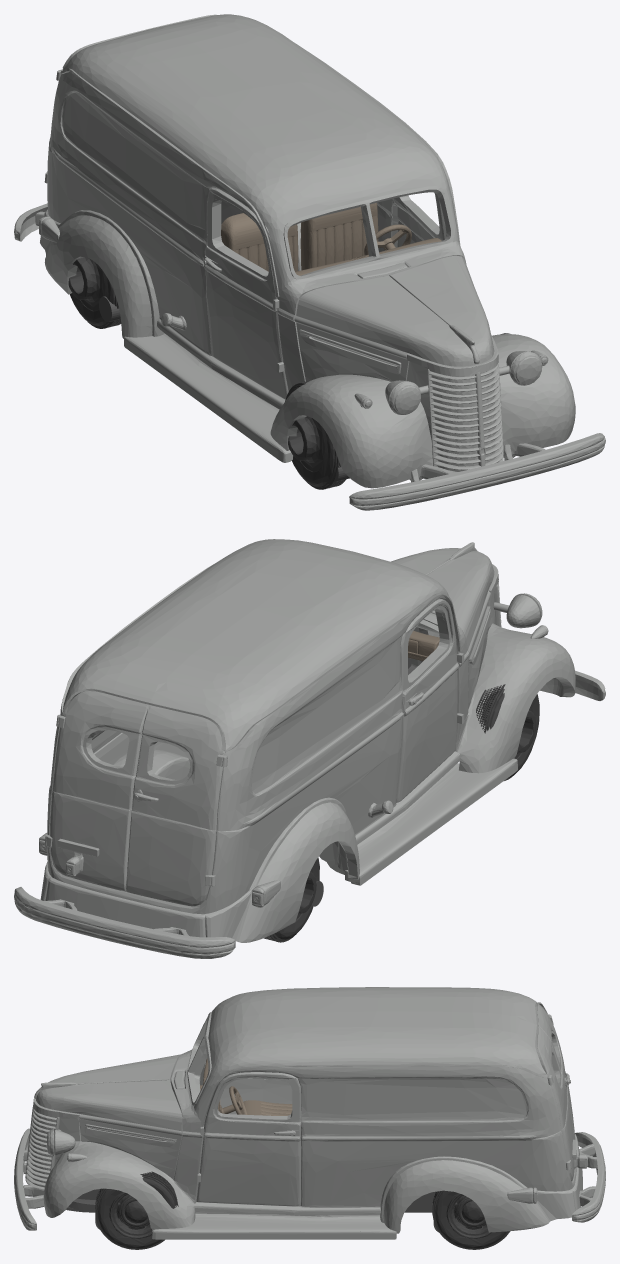
The model's file is pt-truck-full.glb.
3 renders of one model, top to bottom at view 1: azimuth 30°, elevation 25°; view 2: azimuth 150°, elevation 25°; view 3: azimuth 270°, elevation 25°, orthographic. The views are drawn at different scales.
Parts seen in each view (by area): view 1: body, interior, w4, w2; view 2: body, w4, w2, interior; view 3: body, w3, w1, interior, chassis.
Part boxes in pixels (left/top/right/bottom): body: left=14, top=14, right=605, bottom=510; interior: left=221, top=202, right=441, bottom=275; w4: left=285, top=381, right=345, bottom=489; w2: left=68, top=257, right=121, bottom=328; body: left=14, top=539, right=605, bottom=958; w4: left=476, top=684, right=539, bottom=780; w2: left=264, top=857, right=319, bottom=942; interior: left=408, top=631, right=439, bottom=661; body: left=14, top=987, right=605, bottom=1239; w3: left=95, top=1171, right=178, bottom=1249; w1: left=432, top=1190, right=509, bottom=1249; interior: left=200, top=1058, right=292, bottom=1115; chassis: left=66, top=1189, right=438, bottom=1232.
Size of the model in its own units: 39.71 by 38.82 by 105.
